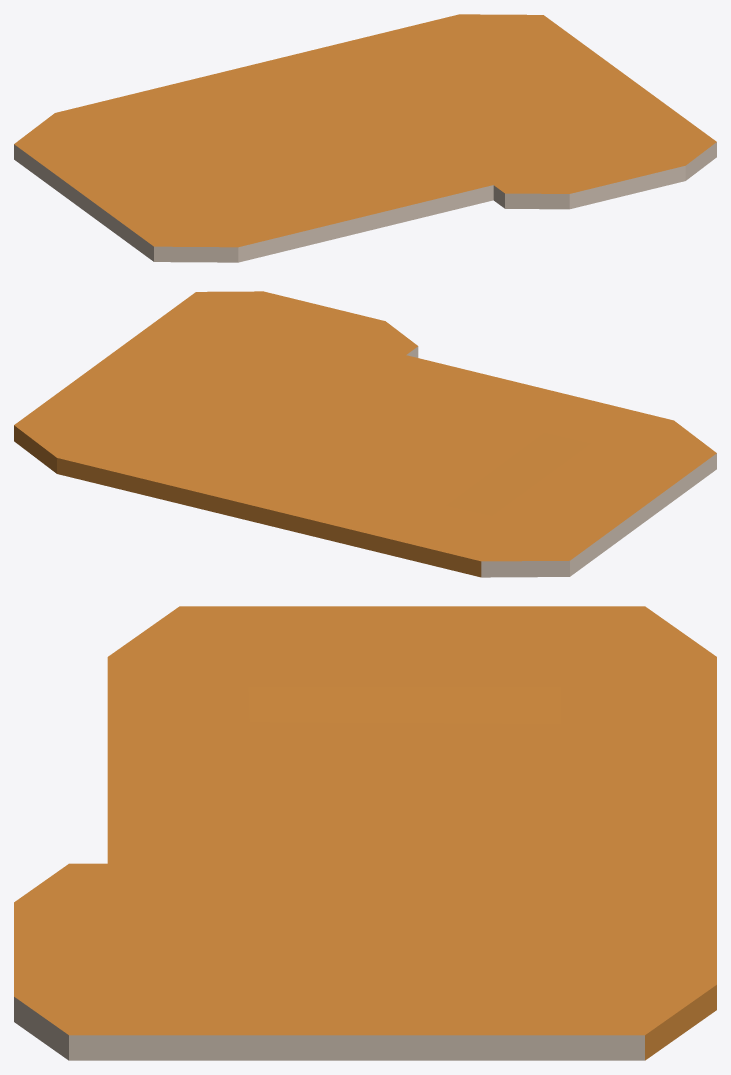
File: Case_file.fbx
The picture shows the model from 3 angles, top to bottom: view 1: azimuth 30°, elevation 25°; view 2: azimuth 150°, elevation 25°; view 3: azimuth 270°, elevation 25°; orthographic projection. The views are drawn at different scales.
Parts seen in each view (by area): view 1: Case file; view 2: Case file; view 3: Case file.
Part boxes in pixels (x1=…): Case file: x1=14, y1=14, x2=716, y2=262; Case file: x1=14, y1=291, x2=716, y2=577; Case file: x1=14, y1=606, x2=716, y2=1060.
Size of the model in its own units: 114 by 3.17 by 79.24.
